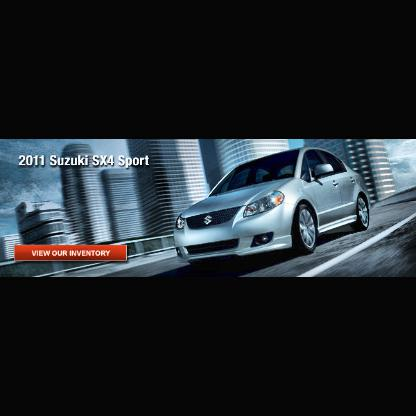Suzuki SX4 Sedan 2012: (176, 150, 370, 259)
